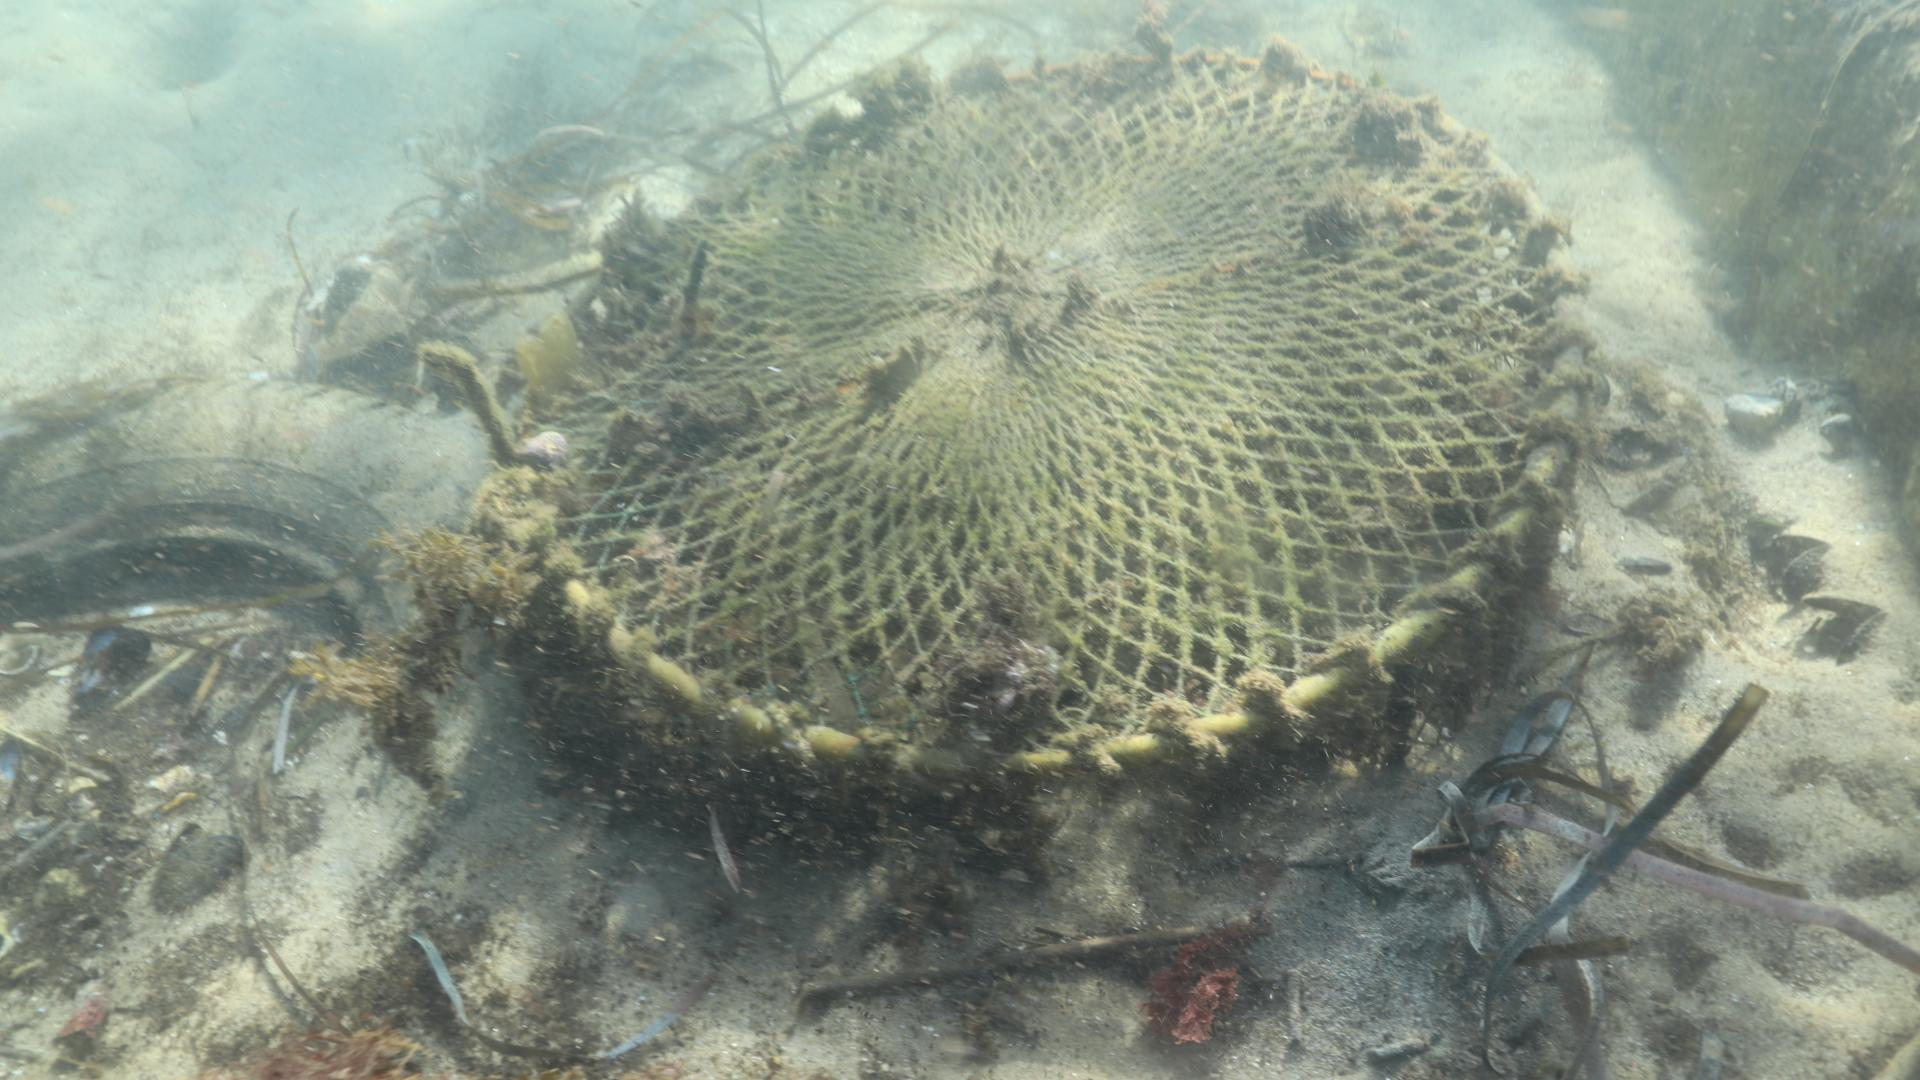circular fish trap: (495, 49, 1596, 847)
